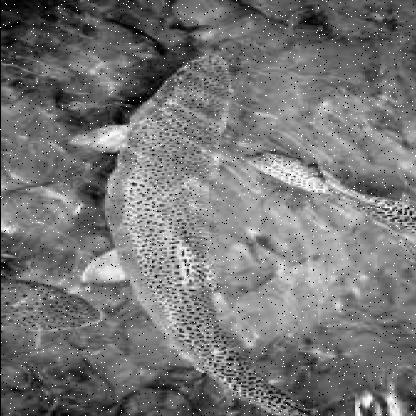fish: (76, 52, 344, 414)
